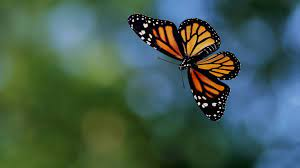insect: (127, 13, 240, 123)
